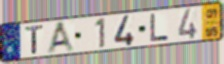1: (94, 17, 107, 50)
4: (113, 14, 137, 48), (177, 8, 199, 41)
A: (46, 20, 77, 54)
L: (149, 13, 170, 44)
T: (24, 24, 46, 55)
